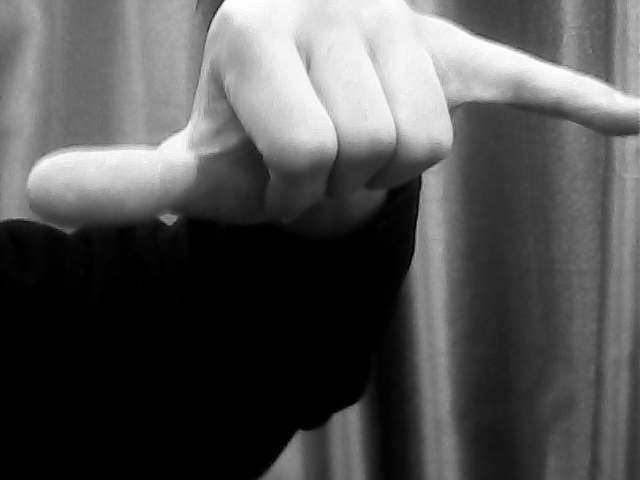aloha: (27, 1, 640, 228)
